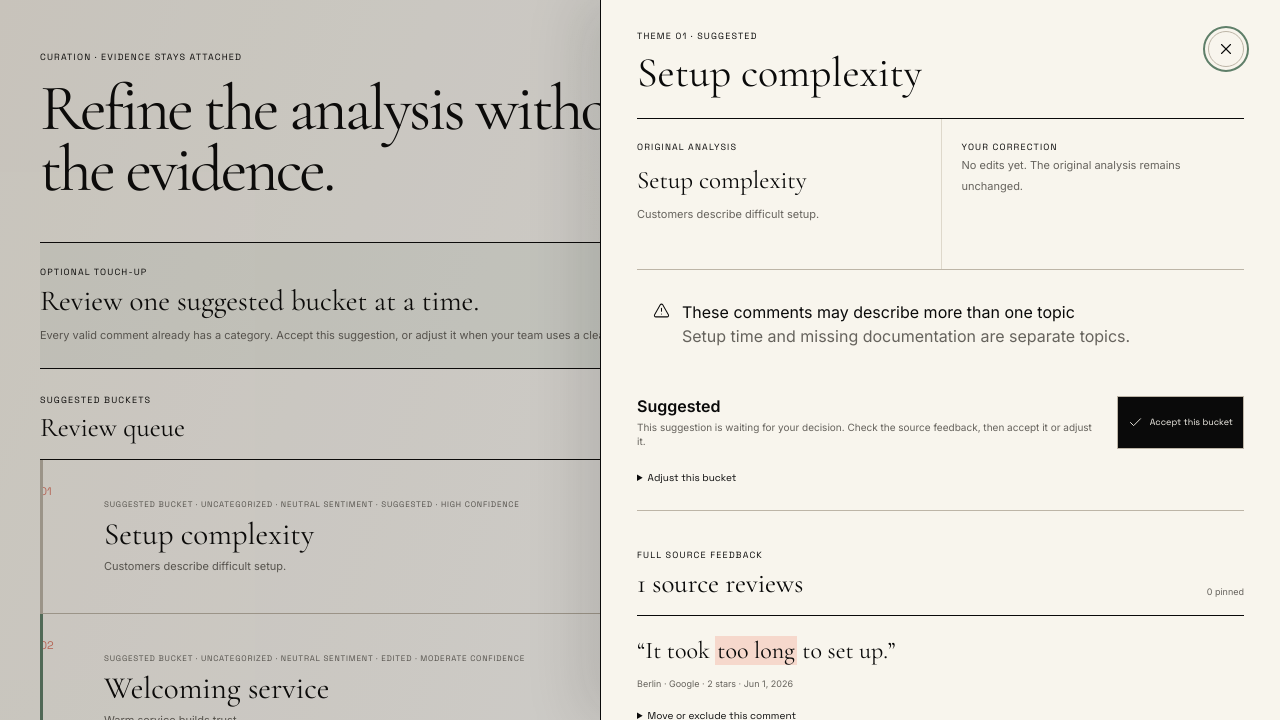
Scenario: CurationWorkspace › reveals merge only after a bucket is selected for correction
The width and height of the screenshot is (1280, 720).
Click the heading "Adjust this bucket". click: [692, 478]
box: [648,471,736,484]
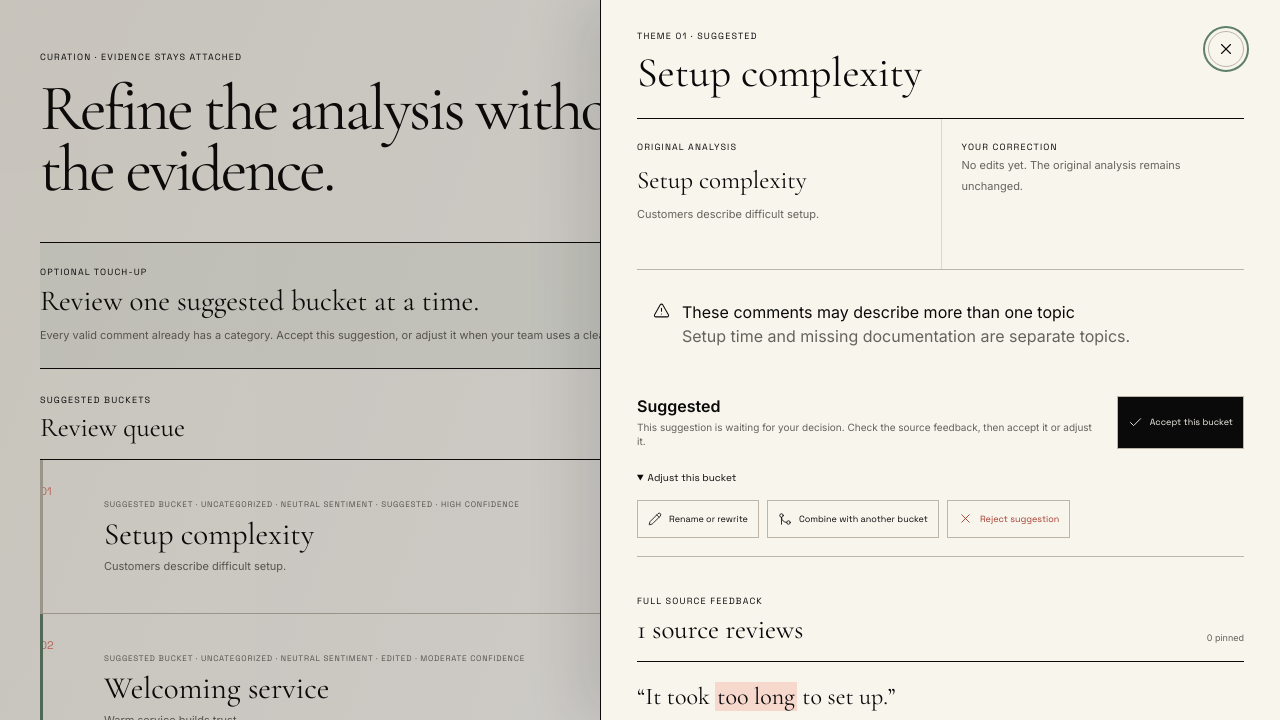
Click the button "Combine with another bucket". click: [853, 519]
box: [767,500,939,538]
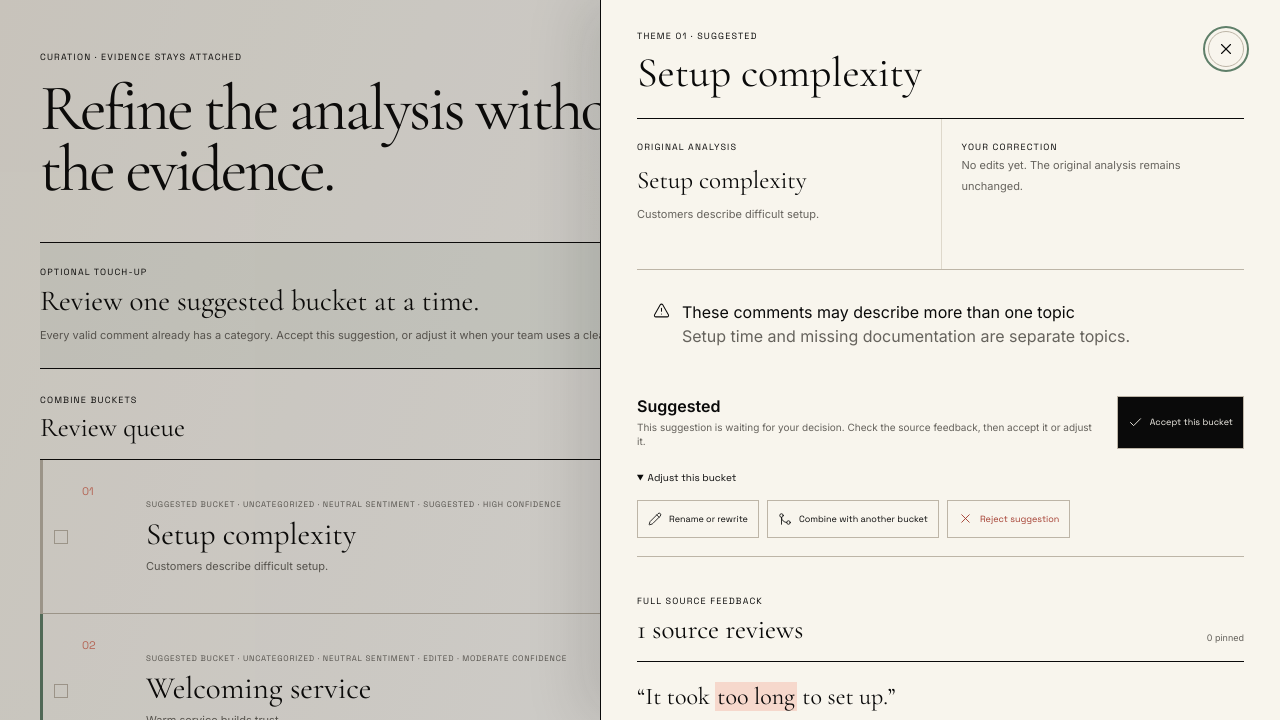
Result: the checkbox named "select welcoming service for merge" is shown at [54,684,68,698]
